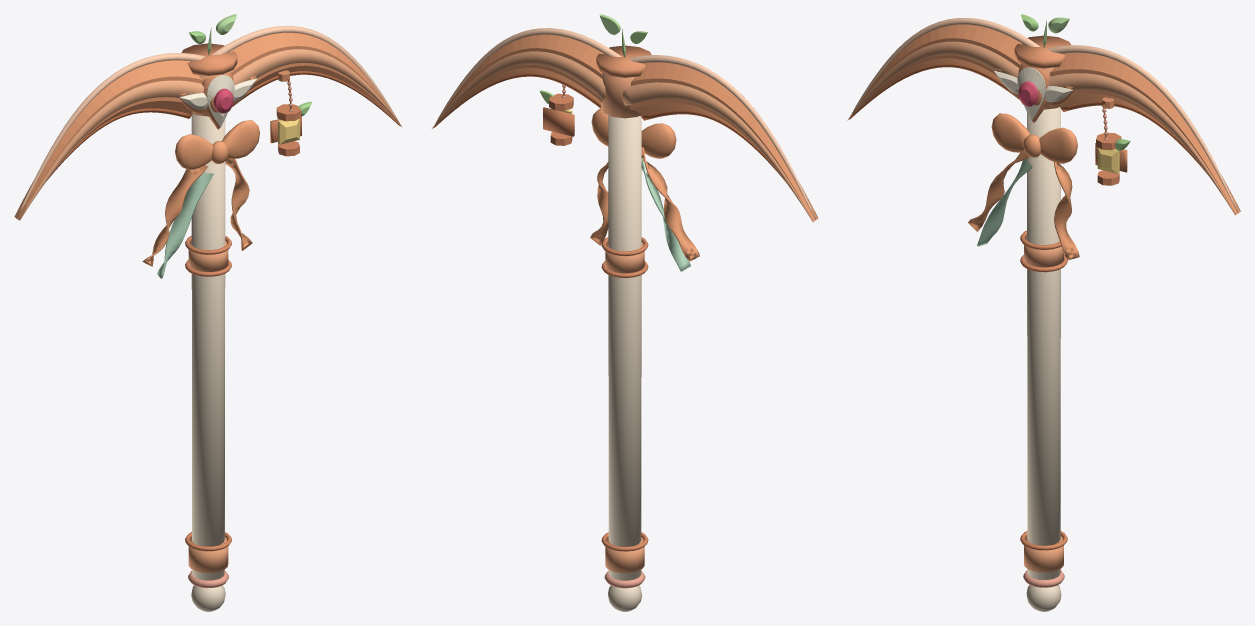
File: CopperPickaxe.glb
3 views of the same model, side by side, from view 1: azimuth 30°, elevation 25°; view 2: azimuth 150°, elevation 25°; view 3: azimuth 330°, elevation 25° (orthographic).
Parts seen in each view (by area): view 1: CopperPickaxe_SmoothPlastic, CopperPickaxe_Metal, CopperPickaxe_Glass; view 2: CopperPickaxe_SmoothPlastic, CopperPickaxe_Metal; view 3: CopperPickaxe_SmoothPlastic, CopperPickaxe_Metal, CopperPickaxe_Glass.
Boxes of the visible parts, x1,y1,x2,y2 form: CopperPickaxe_SmoothPlastic: (14, 14, 401, 611); CopperPickaxe_Metal: (179, 43, 301, 588); CopperPickaxe_Glass: (213, 88, 299, 144); CopperPickaxe_SmoothPlastic: (432, 14, 818, 611); CopperPickaxe_Metal: (543, 45, 651, 588); CopperPickaxe_SmoothPlastic: (847, 14, 1240, 611); CopperPickaxe_Metal: (995, 35, 1127, 587); CopperPickaxe_Glass: (1018, 81, 1119, 173).
Size of the model in its own units: 2.93 by 4.3 by 0.4282.
Materials: 3 (3 with a texture image).
